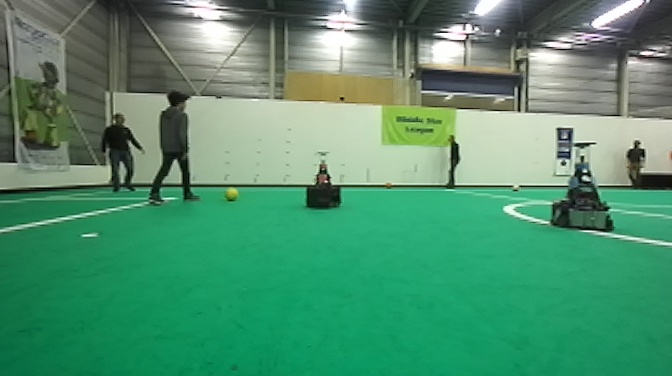ball: (221, 184, 240, 203), (384, 181, 396, 193), (509, 182, 521, 193)
human: (145, 89, 203, 206), (98, 111, 148, 193), (443, 133, 462, 189)
robot: (548, 138, 609, 229), (304, 150, 343, 210)
